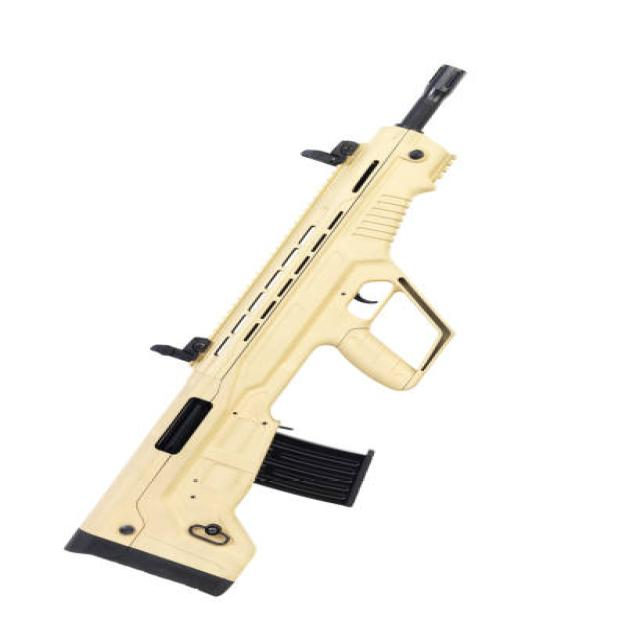rifle: (62, 60, 478, 608)
